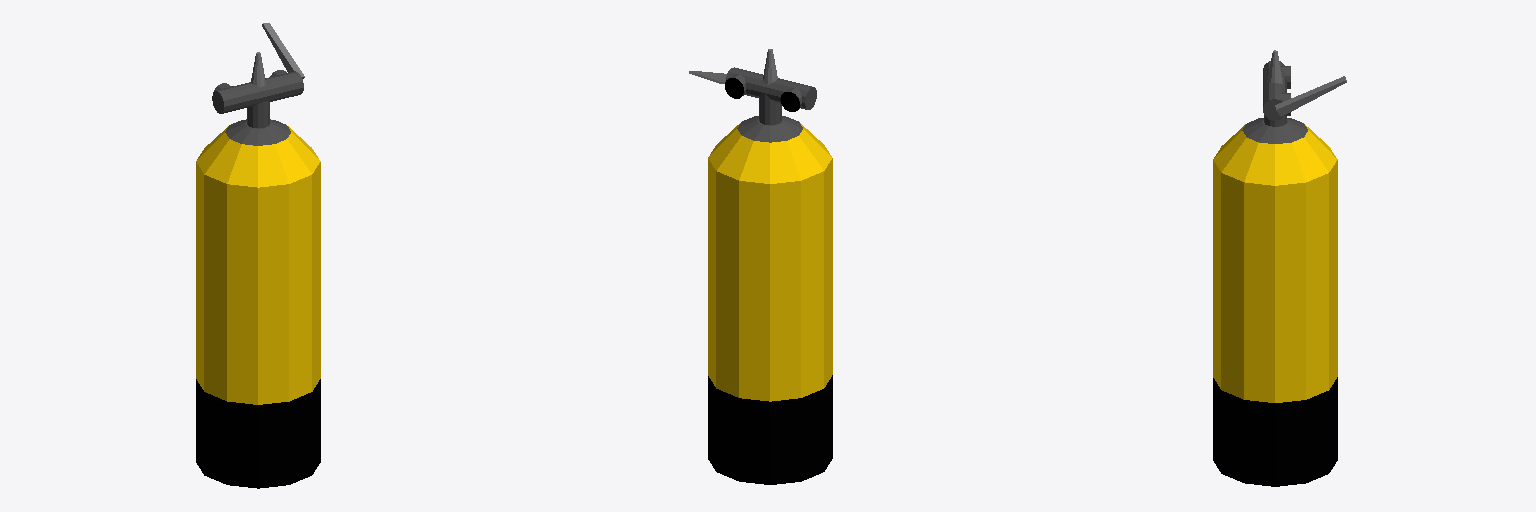
File: HeliumTank.obj
The picture shows the model from 3 angles: view 1: azimuth 30°, elevation 25°; view 2: azimuth 150°, elevation 25°; view 3: azimuth 270°, elevation 25°; orthographic projection.
Visible parts, largest first — view 1: pCylinder3, pCylinder3 pCube1; view 2: pCylinder3; view 3: pCylinder3, pCylinder3 pCube1.
Boxes of the visible parts, <box> form: pCylinder3: <box>196,52,320,488</box>; pCylinder3 pCube1: <box>262,23,304,78</box>; pCylinder3: <box>708,49,832,484</box>; pCylinder3: <box>1213,50,1337,486</box>; pCylinder3 pCube1: <box>1275,76,1346,116</box>.
Size of the model in its own units: 0.27 by 0.979 by 0.2902.